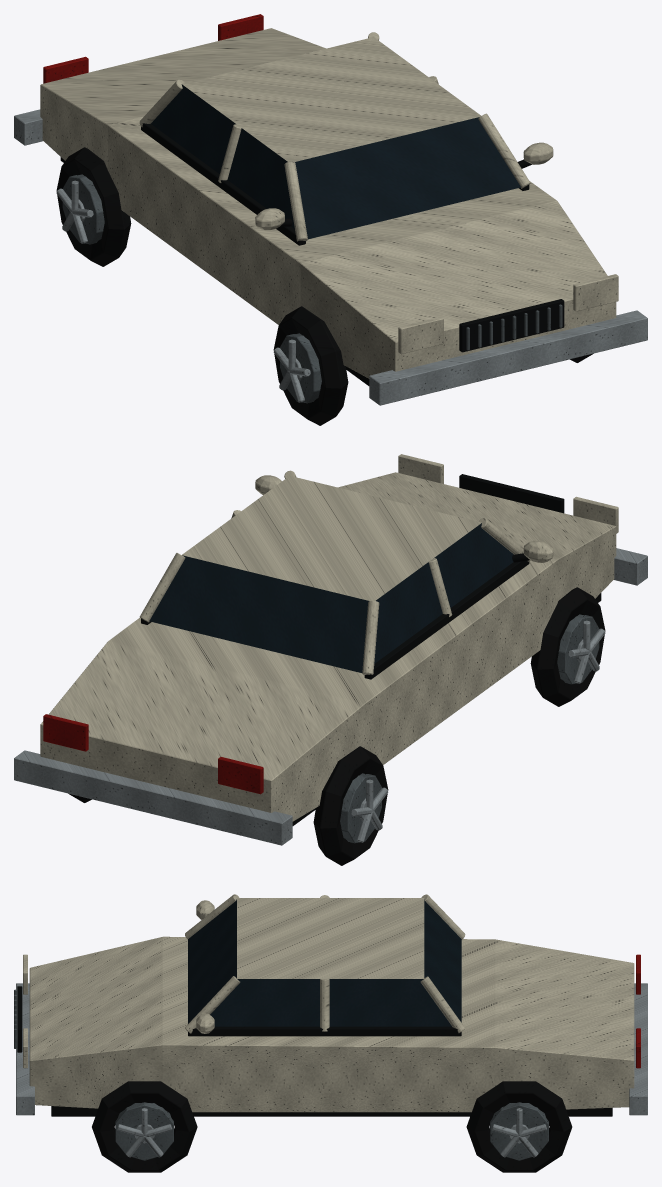
File: PROP-F665D881C574_lod1.glb
3 renders of one model, top to bottom at view 1: azimuth 30°, elevation 25°; view 2: azimuth 150°, elevation 25°; view 3: azimuth 270°, elevation 25°, orthographic. The views are drawn at different scales.
Parts seen in each view (by area): view 1: shaped_body_panels.001, sloped_cabin_glazing.001, roof_panel.001, bumper.001, tire.001, window_pillars.001, rim.001, lamp_lenses.002, radiator_grille.001, window_belt.001, rim_spokes.001, lamp_lenses.003 (+2 smaller); view 2: shaped_body_panels.001, sloped_cabin_glazing.001, roof_panel.001, bumper.001, tire.001, rim.001, window_pillars.001, lamp_lenses.003, window_belt.001, lamp_lenses.002, rim_spokes.001, radiator_grille.001 (+1 smaller); view 3: shaped_body_panels.001, sloped_cabin_glazing.001, roof_panel.001, tire.001, rim.001, bumper.001, window_belt.001, window_pillars.001, chassis.001, rim_spokes.001, mirror.001, lamp_lenses.002 (+1 smaller).
Boxes of the visible parts, bbox=[...] form: shaped_body_panels.001: bbox=[40, 28, 616, 378]; sloped_cabin_glazing.001: bbox=[151, 84, 520, 239]; roof_panel.001: bbox=[182, 37, 480, 161]; bumper.001: bbox=[14, 109, 647, 405]; tire.001: bbox=[56, 147, 593, 425]; window_pillars.001: bbox=[139, 32, 530, 241]; rim.001: bbox=[62, 174, 321, 403]; lamp_lenses.002: bbox=[398, 274, 618, 354]; radiator_grille.001: bbox=[459, 299, 564, 352]; window_belt.001: bbox=[141, 123, 529, 245]; rim_spokes.001: bbox=[56, 180, 310, 402]; lamp_lenses.003: bbox=[43, 14, 263, 83]; shaped_body_panels.001: bbox=[40, 472, 616, 821]; sloped_cabin_glazing.001: bbox=[149, 523, 513, 672]; roof_panel.001: bbox=[182, 476, 481, 600]; bumper.001: bbox=[14, 548, 647, 845]; tire.001: bbox=[68, 587, 605, 865]; rim.001: bbox=[340, 614, 599, 843]; window_pillars.001: bbox=[139, 470, 529, 675]; lamp_lenses.003: bbox=[43, 714, 263, 794]; window_belt.001: bbox=[141, 560, 529, 679]; lamp_lenses.002: bbox=[398, 454, 618, 533]; rim_spokes.001: bbox=[351, 620, 605, 842]; radiator_grille.001: bbox=[459, 474, 564, 513]; shaped_body_panels.001: bbox=[29, 936, 634, 1112]; sloped_cabin_glazing.001: bbox=[188, 899, 461, 1026]; roof_panel.001: bbox=[237, 898, 424, 978]; tire.001: bbox=[92, 1081, 572, 1172]; rim.001: bbox=[115, 1102, 548, 1160]; bumper.001: bbox=[16, 983, 647, 1115]; window_belt.001: bbox=[188, 1026, 461, 1036]; window_pillars.001: bbox=[185, 894, 465, 1033]; chassis.001: bbox=[51, 1106, 612, 1116]; rim_spokes.001: bbox=[117, 1108, 546, 1157]; mirror.001: bbox=[196, 900, 214, 1033]; lamp_lenses.002: bbox=[23, 954, 27, 1068].
Bounding box in the file's own units: 2.09 × 1.4 × 4.41.
Materials: 7 (7 with a texture image).
